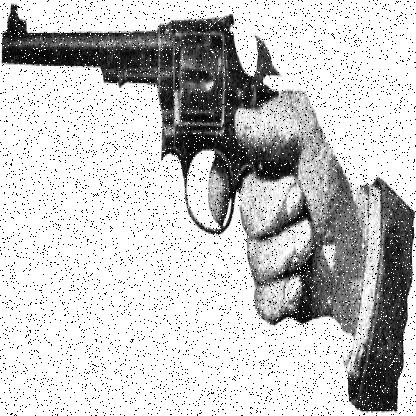pistol: (3, 5, 318, 332)
